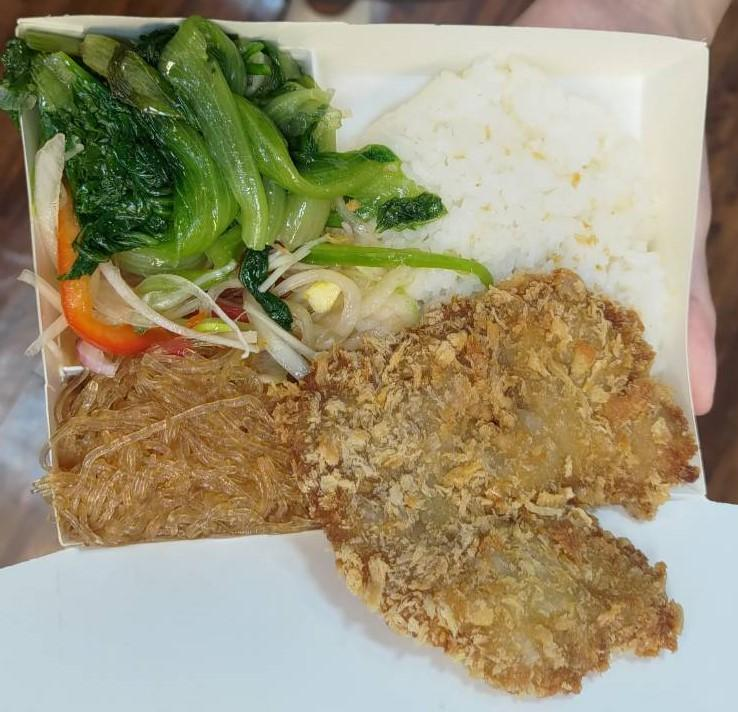big grilled chicken leg: (5, 9, 727, 556)
big herbal chicken leg: (335, 49, 687, 362)
braised fish fillet: (35, 34, 421, 258), (54, 357, 319, 540), (45, 245, 294, 357)
braised pork: (291, 263, 689, 686)
